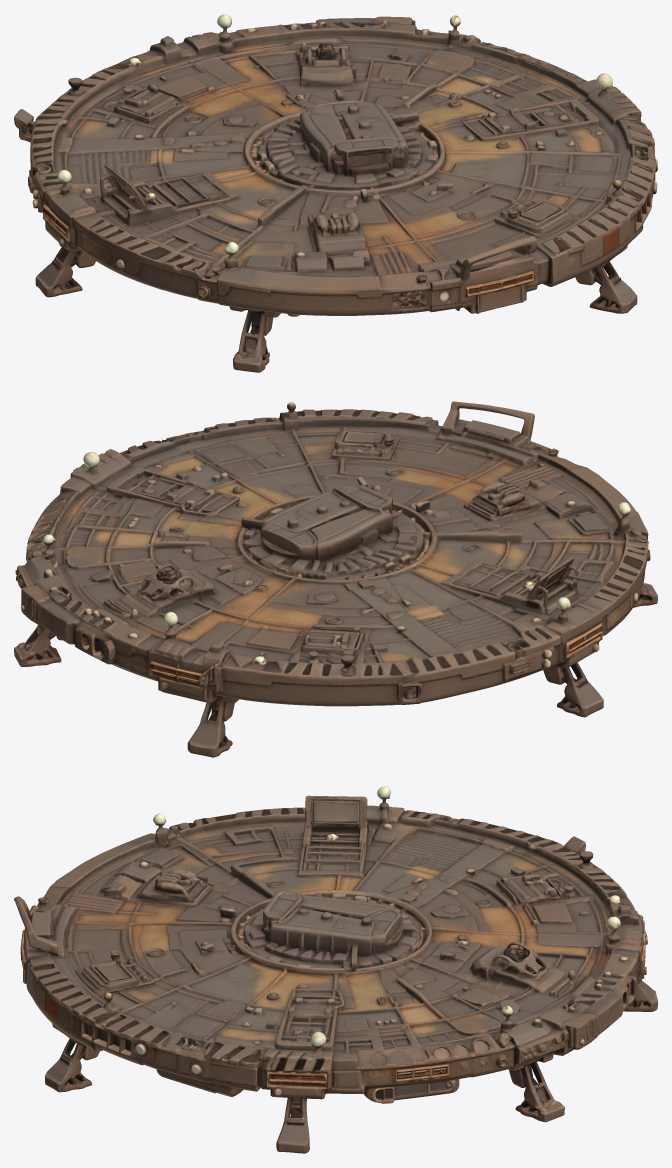
File: mars_landing_pad.glb
The picture shows the model from 3 angles, top to bottom: view 1: azimuth 30°, elevation 25°; view 2: azimuth 150°, elevation 25°; view 3: azimuth 270°, elevation 25°; orthographic projection.
Visible parts, largest first — view 1: tripo_node_e13ac05a-a4b4-4dd1-829b-23f202f26014; view 2: tripo_node_e13ac05a-a4b4-4dd1-829b-23f202f26014; view 3: tripo_node_e13ac05a-a4b4-4dd1-829b-23f202f26014.
Part boxes in pixels (x1,y1,x2,y2): tripo_node_e13ac05a-a4b4-4dd1-829b-23f202f26014: [14, 14, 657, 372]; tripo_node_e13ac05a-a4b4-4dd1-829b-23f202f26014: [14, 401, 657, 757]; tripo_node_e13ac05a-a4b4-4dd1-829b-23f202f26014: [14, 786, 657, 1153].
Bounding box in the file's own units: 0.9789 × 0.1967 × 0.9811.
Materials: 1 (1 with a texture image).
